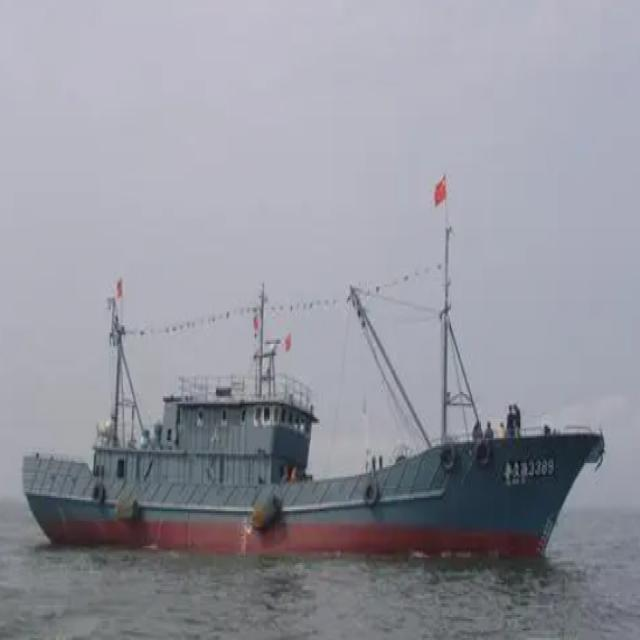navalvessels: (25, 172, 595, 562)
